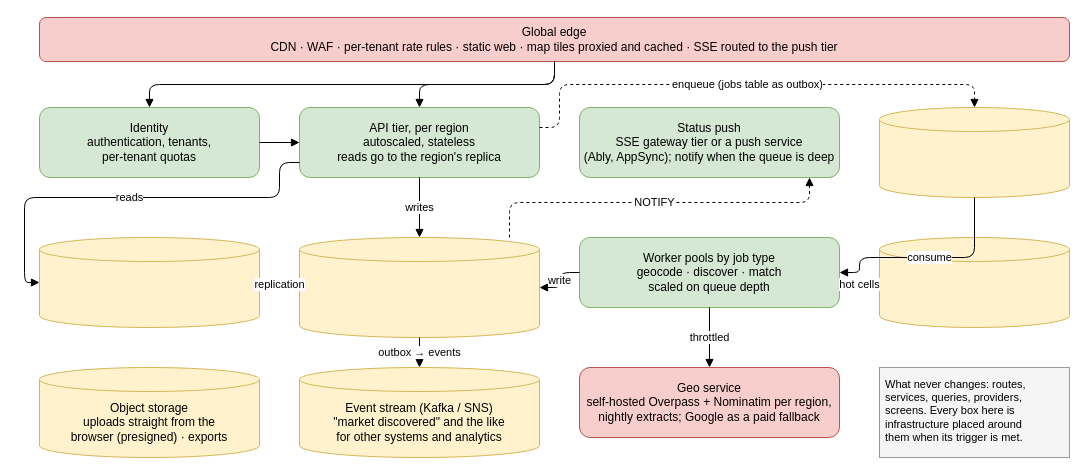
Image size: 1087x475. Some labels were removed from this diagram. The centre of each missing label's shape, as x and y in pixels:
"Broker SQS or BullMQ on Redis jobs table as the outbox" belongs at point 974,152.
"Postgres, partitioned by tenant / market id primary per region" belongs at point 419,287.
"Read replicas per region" belongs at point 149,282.
"Tile cache in Redis cell answers served hot; Postgres keeps the durable copy" belongs at point 974,282.
